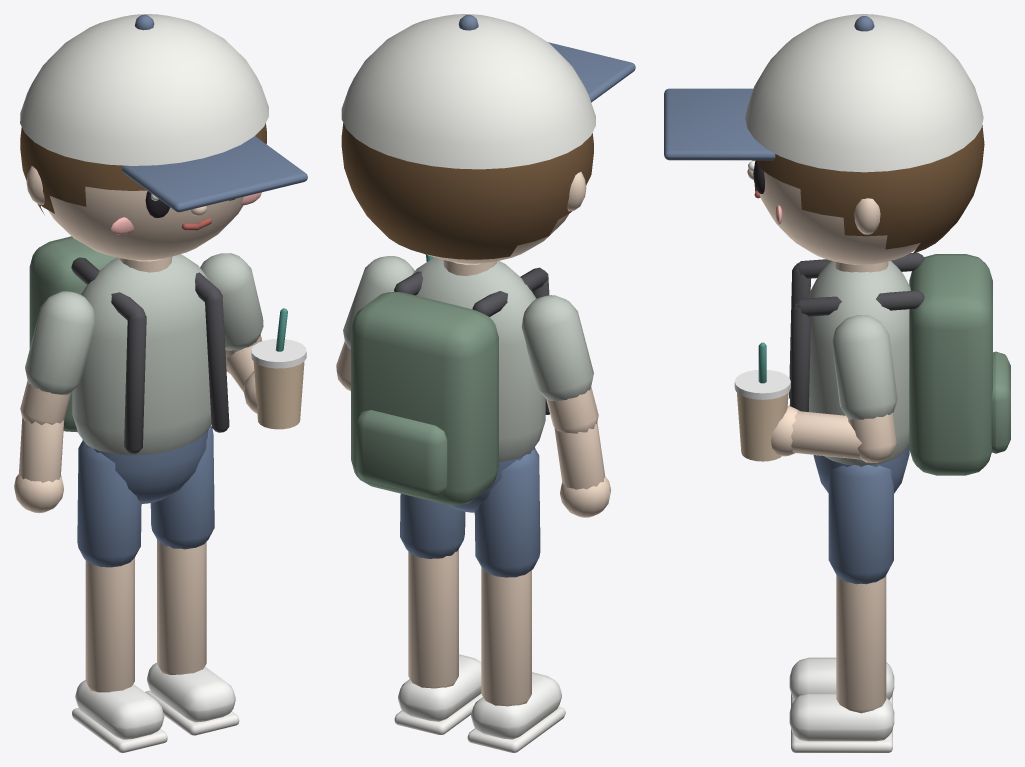
Rendered from Customer_CapBackpack.fbx.
The picture shows the model from 3 angles, left to right: view 1: azimuth 30°, elevation 25°; view 2: azimuth 150°, elevation 25°; view 3: azimuth 270°, elevation 25°; orthographic projection. The views are drawn at different scales.
Parts seen in each view (by area): view 1: Head, Body, Leg_L, Leg_R, Arm_L, Arm_R; view 2: Head, Body, Leg_L, Leg_R, Arm_L, Arm_R; view 3: Head, Body, Leg_R, Arm_R, Leg_L.
Part boxes in pixels (bbox=[...]): Head: bbox=[20, 14, 307, 260]; Body: bbox=[29, 236, 229, 503]; Leg_L: bbox=[72, 441, 167, 752]; Leg_R: bbox=[145, 426, 239, 735]; Arm_L: bbox=[14, 291, 95, 513]; Arm_R: bbox=[200, 253, 306, 429]; Head: bbox=[341, 14, 635, 263]; Body: bbox=[351, 257, 549, 512]; Leg_L: bbox=[467, 448, 565, 752]; Leg_R: bbox=[394, 493, 482, 734]; Arm_L: bbox=[521, 295, 610, 517]; Arm_R: bbox=[336, 254, 433, 391]; Head: bbox=[664, 14, 984, 264]; Body: bbox=[789, 252, 1010, 493]; Leg_R: bbox=[789, 465, 894, 752]; Arm_R: bbox=[734, 315, 897, 462]; Leg_L: bbox=[789, 657, 894, 706].
Size of the model in its own units: 0.4962 by 1.31 by 0.58.
